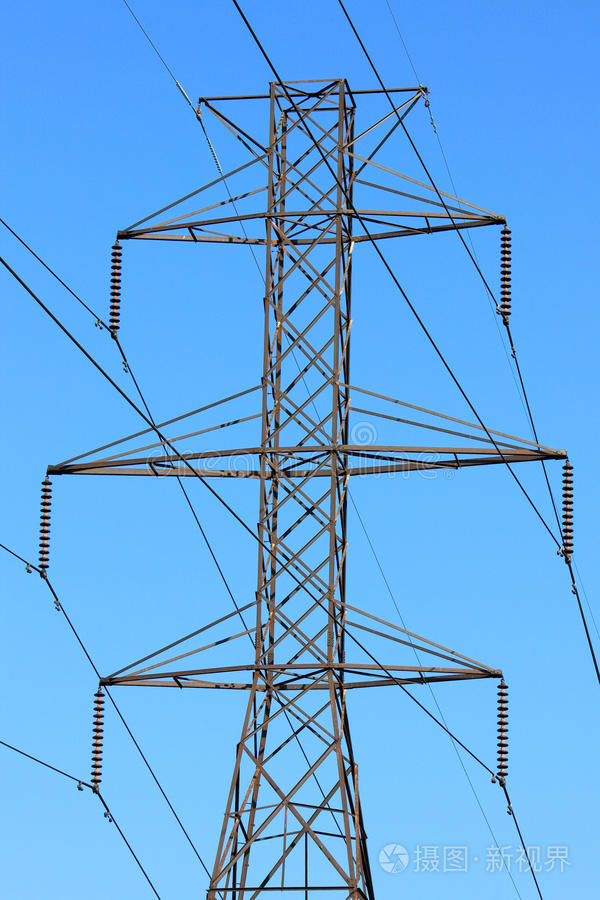insulator: (87, 688, 107, 787), (105, 248, 126, 334), (494, 683, 512, 777), (560, 461, 577, 557), (498, 228, 515, 321), (37, 479, 52, 572)
